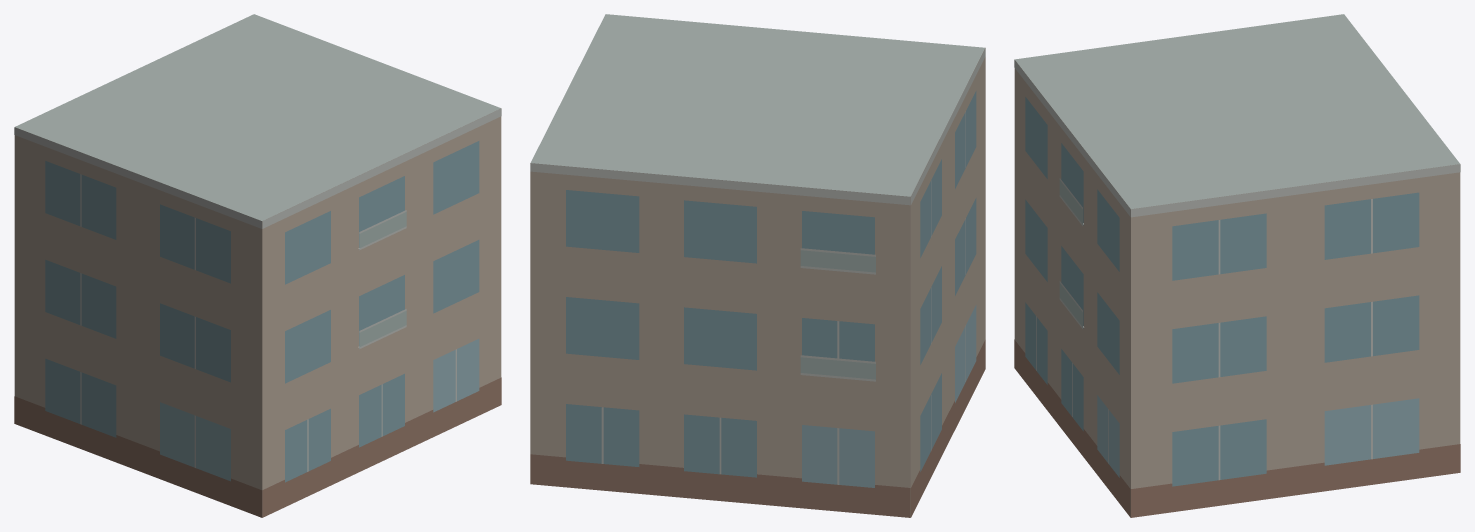
The model's file is survey-upis-32907668.glb.
3 renders of one model, left to right at view 1: azimuth 30°, elevation 25°; view 2: azimuth 150°, elevation 25°; view 3: azimuth 270°, elevation 25°, orthographic. The views are drawn at different scales.
Visible parts, largest first — view 1: survey-upis-32907668.tmp; view 2: survey-upis-32907668.tmp; view 3: survey-upis-32907668.tmp.
Part boxes in pixels (box(x1,y1,x2,y2)): survey-upis-32907668.tmp: box(14, 14, 501, 517); survey-upis-32907668.tmp: box(530, 14, 985, 517); survey-upis-32907668.tmp: box(1014, 14, 1460, 517).
Size of the model in its own units: 12.42 by 9.15 by 11.99.
